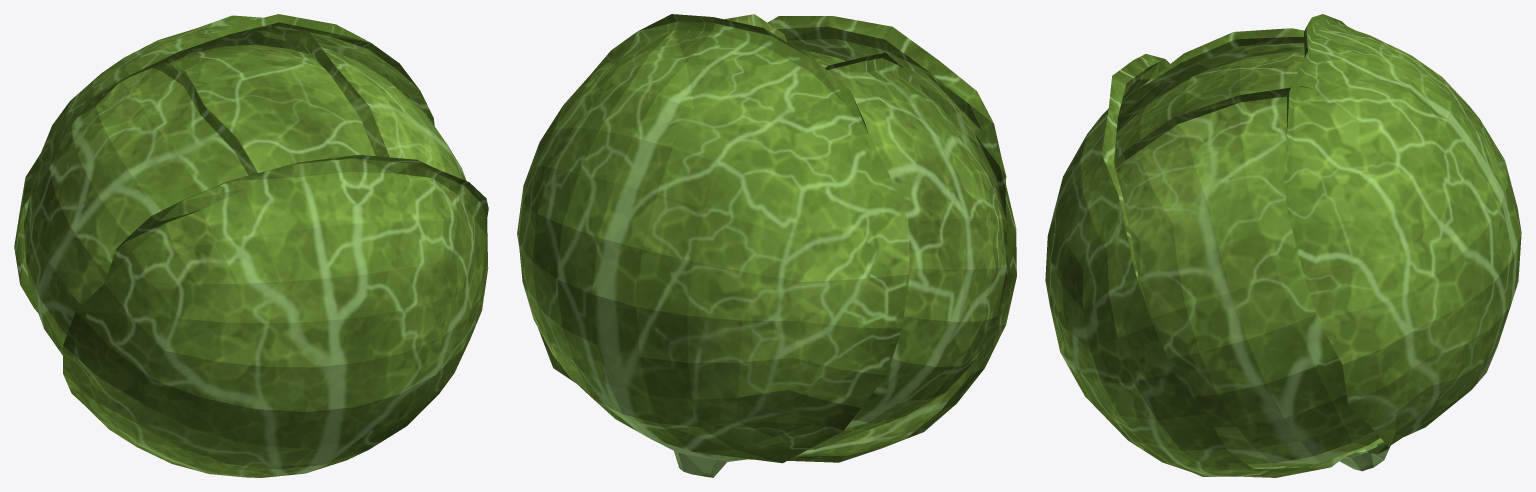
The picture shows the model from 3 angles, left to right: view 1: azimuth 30°, elevation 25°; view 2: azimuth 150°, elevation 25°; view 3: azimuth 270°, elevation 25°; orthographic projection. The views are drawn at different scales.
Visible parts, largest first — view 1: Object_TexMap; view 2: Object_TexMap; view 3: Object_TexMap.
Part boxes in pixels (bbox=[...]): Object_TexMap: bbox=[14, 14, 488, 477]; Object_TexMap: bbox=[517, 14, 1016, 477]; Object_TexMap: bbox=[1045, 14, 1521, 477].
Bounding box in the file's own units: 2.5 × 2.43 × 2.47.
Materials: 1 (1 with a texture image).
